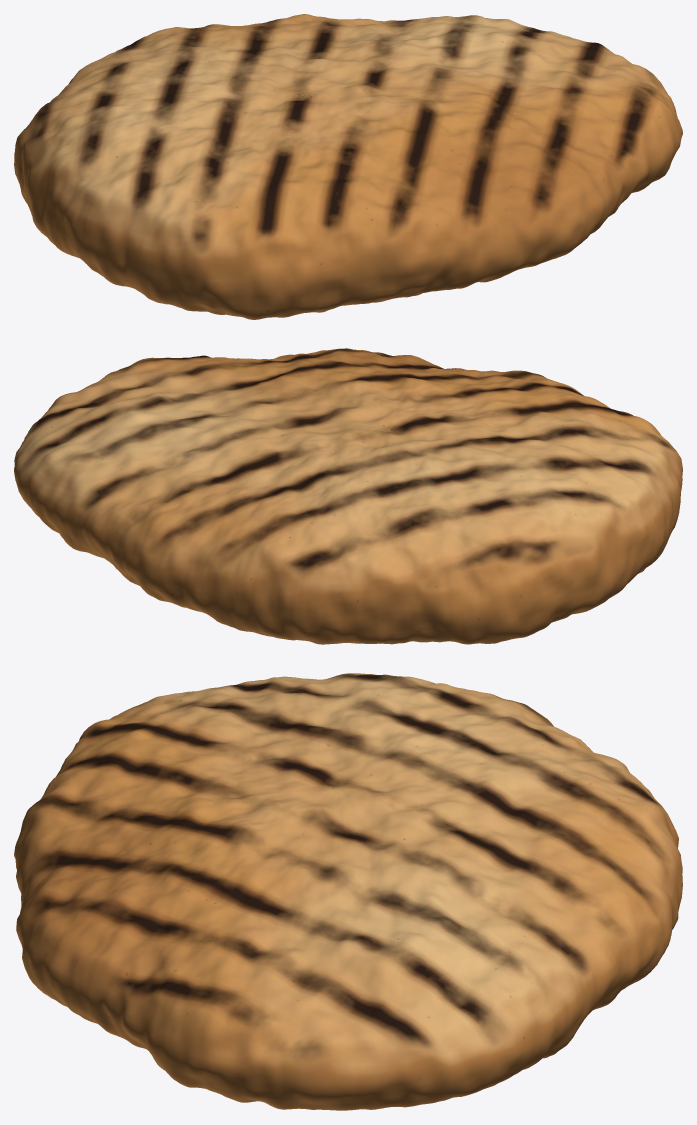
Rendered from chicken_grilled.glb.
3 renders of one model, top to bottom at view 1: azimuth 30°, elevation 25°; view 2: azimuth 150°, elevation 25°; view 3: azimuth 270°, elevation 25°, orthographic. The views are drawn at different scales.
Parts seen in each view (by area): view 1: chicken_grilled_web; view 2: chicken_grilled_web; view 3: chicken_grilled_web.
Boxes of the visible parts, x1,y1,x2,y2 form: chicken_grilled_web: (14, 14, 682, 319); chicken_grilled_web: (14, 348, 682, 644); chicken_grilled_web: (14, 673, 682, 1110).
Bounding box in the file's own units: 0.1271 × 0.0264 × 0.1016.
1 material, 1 textured.
